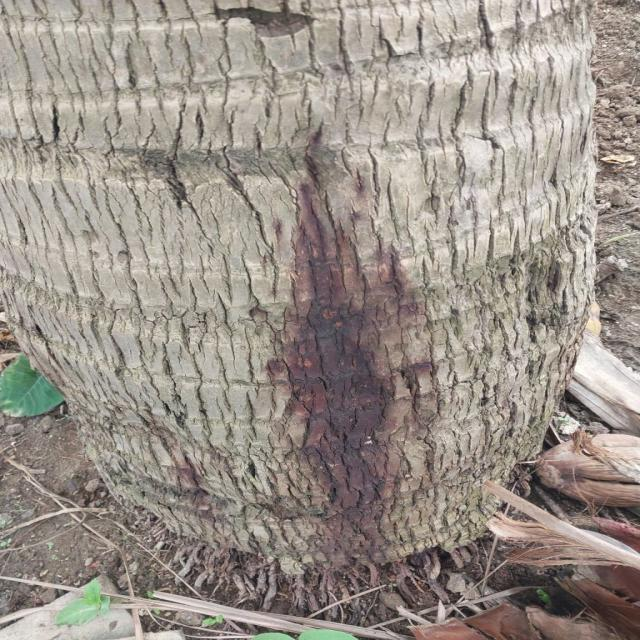stembleeding: (194, 137, 505, 564)
